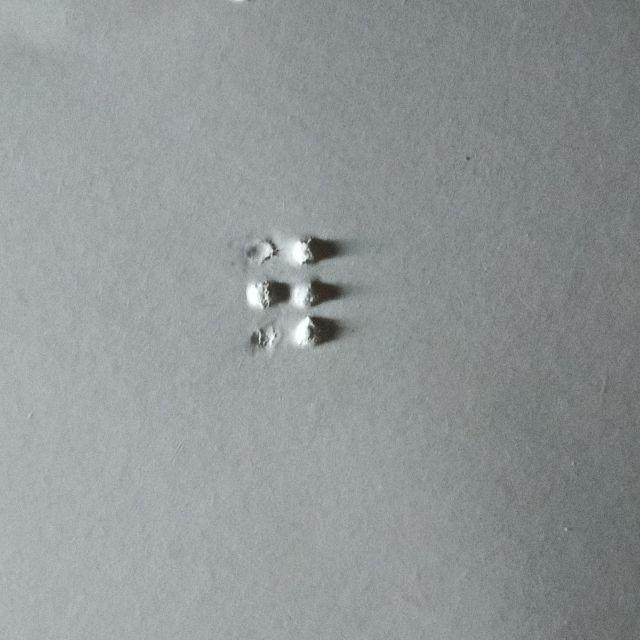wala: (245, 232, 334, 350)
